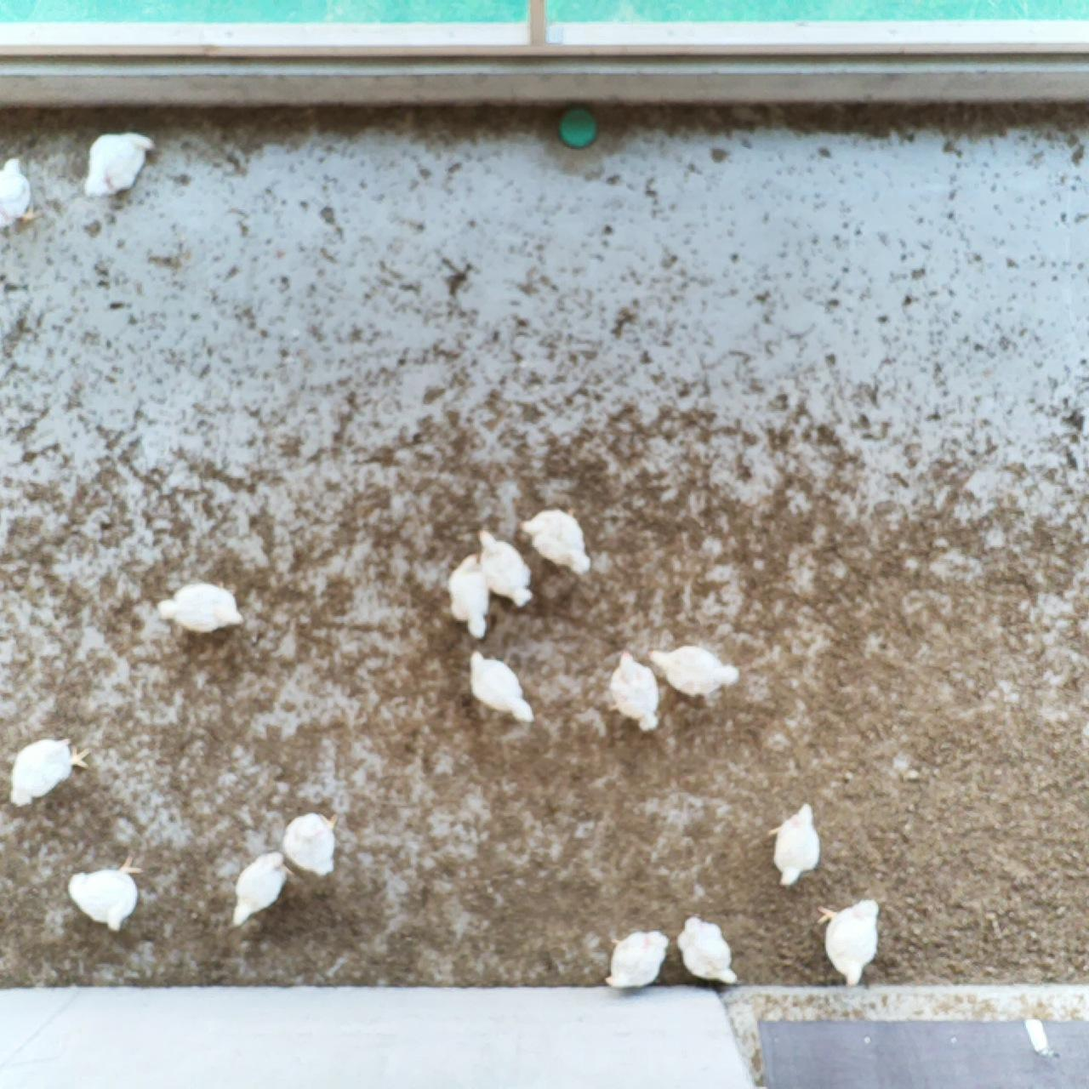chicken: (8, 730, 92, 813), (814, 893, 884, 992), (67, 848, 143, 939), (644, 639, 744, 705), (516, 503, 602, 579), (462, 645, 536, 726), (602, 646, 666, 738), (80, 130, 158, 204), (227, 850, 295, 932), (154, 578, 248, 637), (474, 525, 537, 611), (675, 911, 742, 991), (766, 799, 824, 891), (600, 926, 671, 993), (281, 806, 342, 880), (446, 549, 493, 641), (0, 152, 44, 233)
